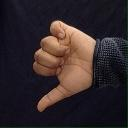hand: (32, 19, 96, 112)
